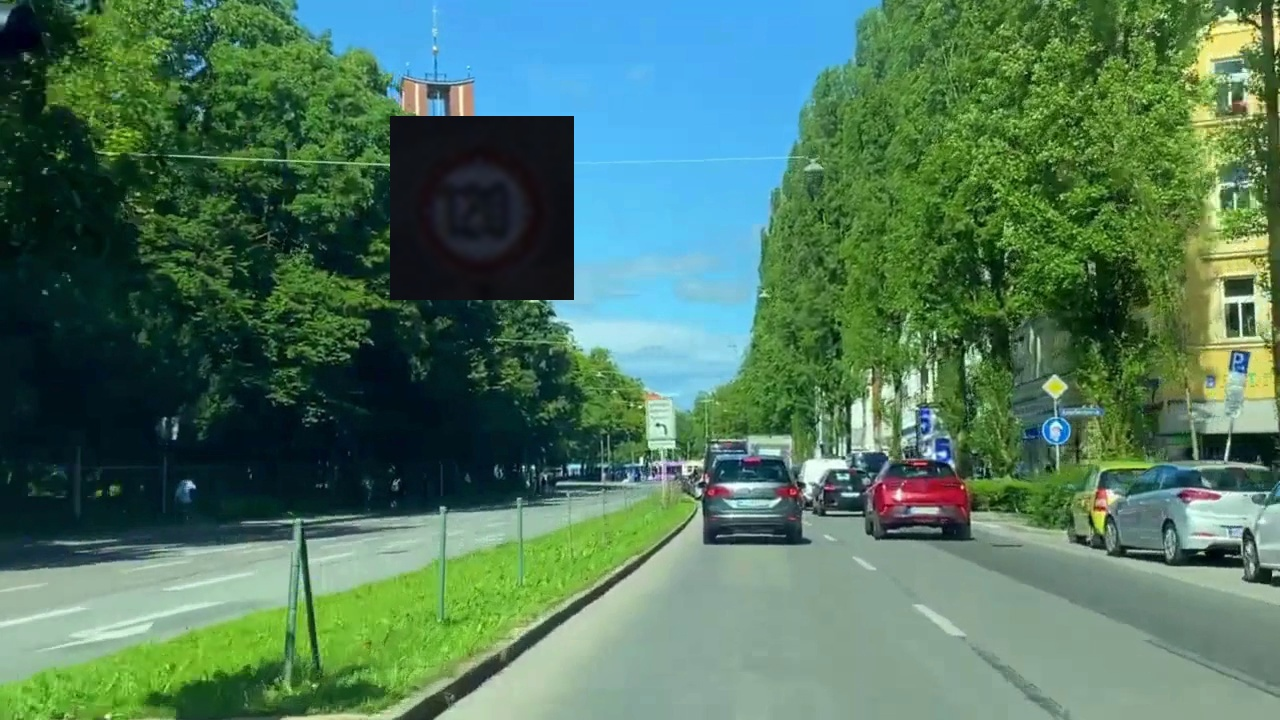Speed 120: (390, 116, 574, 300)
